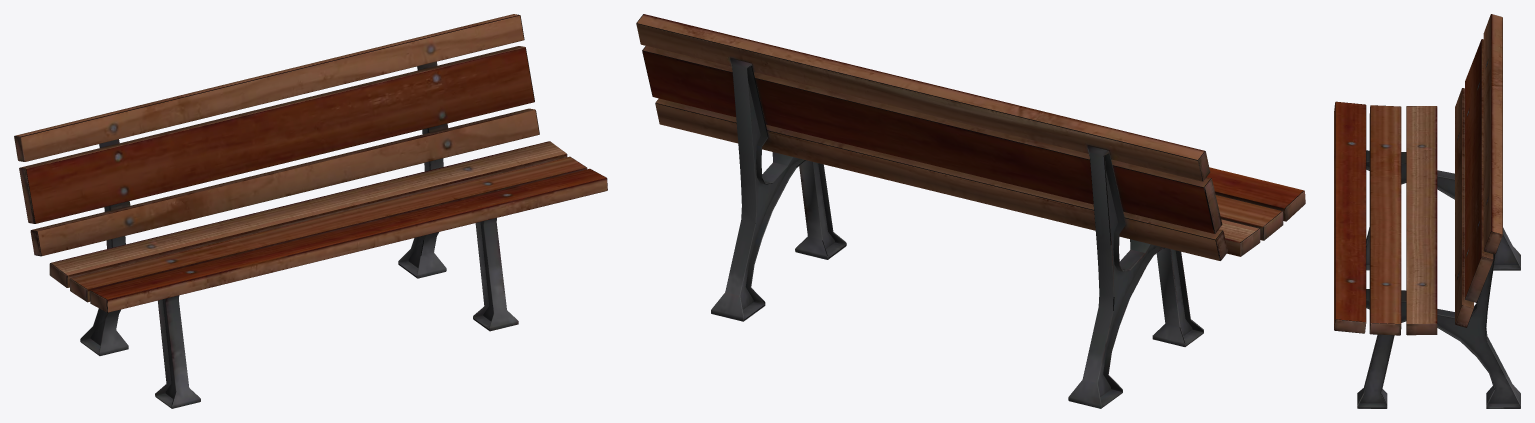
Rendered from bench.glb.
3 renders of one model, left to right at view 1: azimuth 30°, elevation 25°; view 2: azimuth 150°, elevation 25°; view 3: azimuth 270°, elevation 25°, orthographic. The views are drawn at different scales.
Parts seen in each view (by area): view 1: baked; view 2: baked; view 3: baked.
Boxes of the visible parts, x1,y1,x2,y2 form: baked: [14, 14, 607, 408]; baked: [636, 14, 1305, 408]; baked: [1334, 14, 1520, 408].
Size of the model in its own units: 2 by 0.8994 by 0.7229.
Materials: 1 (1 with a texture image).
